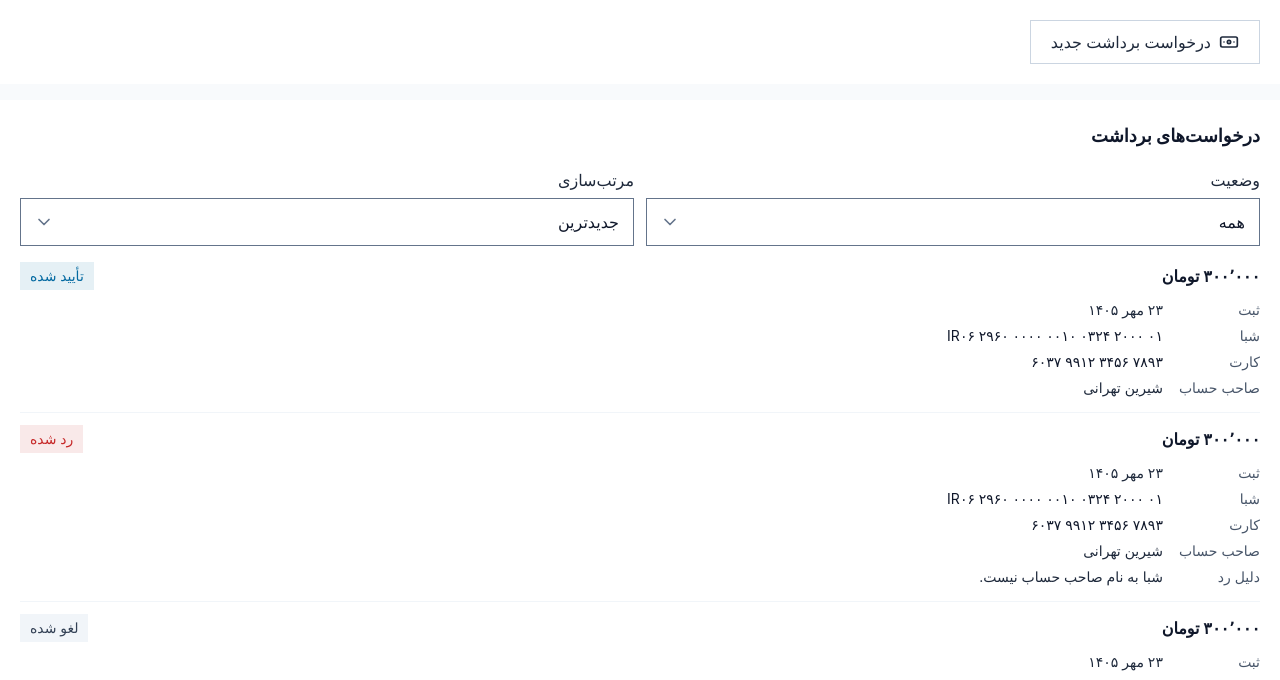
Scenario: a new request › no open one: «درخواست برداشت جدید» loads the form
Click the button "درخواست برداشت جدید": [1145, 42] box [1030,20,1260,64]
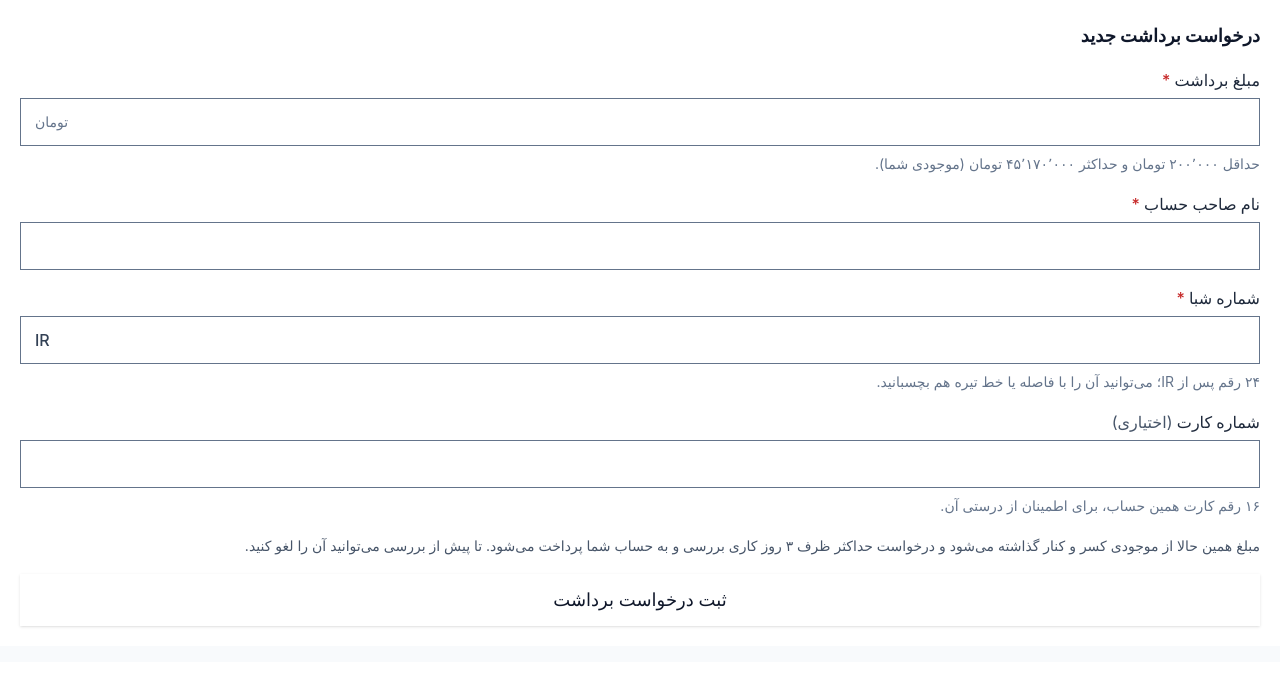
Now the field labelled "شماره شبا *" is shown, box [50,317,1259,363]
